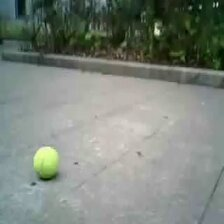tennis: (32, 145, 59, 177)
